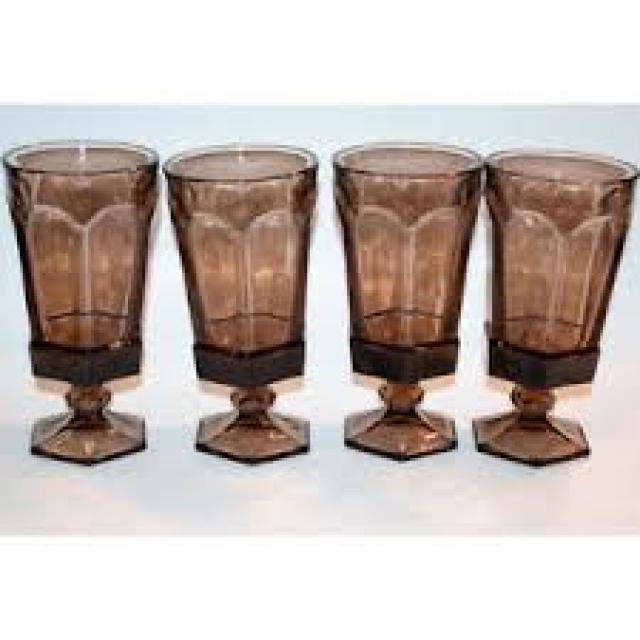glass: (469, 148, 637, 461), (0, 139, 159, 463), (162, 145, 313, 461), (330, 139, 478, 461)
